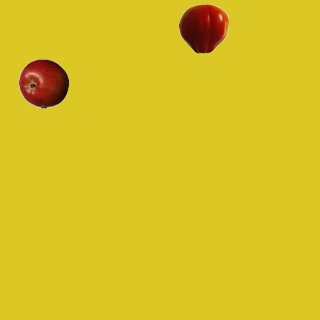Apple Braeburn: (18, 58, 68, 108)
Tomato 1: (178, 3, 228, 53)
